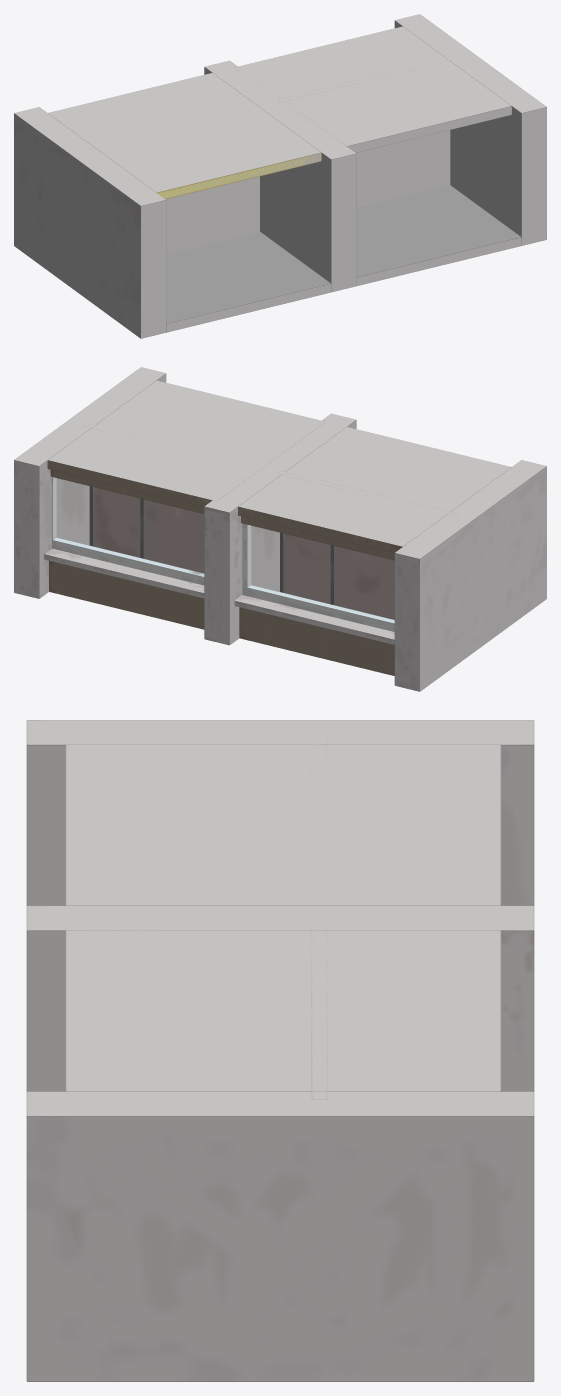
The model's file is AptBuilding01_Balcony.fbx.
The picture shows the model from 3 angles, top to bottom: view 1: azimuth 30°, elevation 25°; view 2: azimuth 150°, elevation 25°; view 3: azimuth 270°, elevation 25°; orthographic projection. The views are drawn at different scales.
Parts seen in each view (by area): view 1: cuboid_2, cuboid_12, cuboid_13, cuboid_1, cuboid_3, cuboid_18, cuboid_19, cuboid_21, cuboid_22, cuboid; view 2: cuboid_2, cuboid_12, cuboid_13, cuboid_1, cuboid_3, cuboid_22, cuboid_21, cuboid_16, cuboid_4, cuboid_5, cuboid_15, cuboid_6 (+4 smaller); view 3: cuboid_1, cuboid_12, cuboid_13, cuboid_3, cuboid_2, cuboid_21.
Boxes of the visible parts, box(x1,y1,x2,y2) form: cuboid_2: box(14, 107, 166, 338); cuboid_12: box(234, 26, 511, 152); cuboid_13: box(48, 73, 321, 198); cuboid_1: box(394, 14, 546, 245); cuboid_3: box(204, 60, 356, 292); cuboid_18: box(356, 185, 521, 286); cuboid_19: box(166, 231, 331, 332); cuboid_21: box(277, 57, 456, 207); cuboid_22: box(88, 103, 260, 253); cuboid: box(157, 153, 321, 199); cuboid_2: box(394, 460, 546, 691); cuboid_12: box(47, 380, 324, 506); cuboid_13: box(238, 427, 511, 553); cuboid_1: box(14, 367, 166, 598); cuboid_3: box(204, 413, 356, 645); cuboid_22: box(278, 471, 458, 619); cuboid_21: box(83, 424, 260, 573); cuboid_16: box(239, 607, 394, 675); cuboid_4: box(49, 561, 204, 629); cuboid_5: box(44, 548, 204, 598); cuboid_15: box(234, 595, 394, 644); cuboid_6: box(52, 537, 204, 585); cuboid_1: box(26, 1091, 534, 1381); cuboid_12: box(65, 927, 501, 1091); cuboid_13: box(65, 745, 501, 905); cuboid_3: box(26, 905, 534, 1091); cuboid_2: box(26, 720, 534, 905); cuboid_21: box(311, 928, 327, 1099).
Bounding box in the file's own units: 300 × 93.75 × 162.
Materials: 1 (1 with a texture image).
